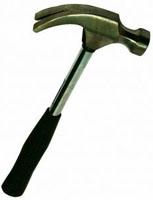hammer: (0, 1, 151, 199)
